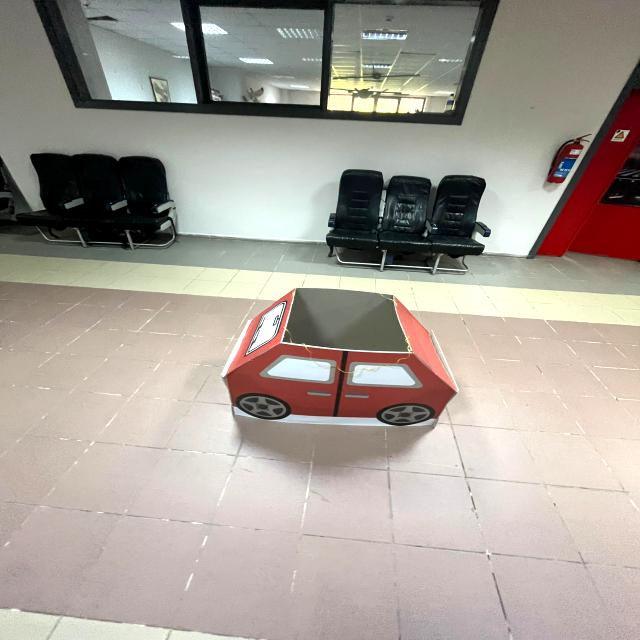red_car: (210, 273, 470, 442)
